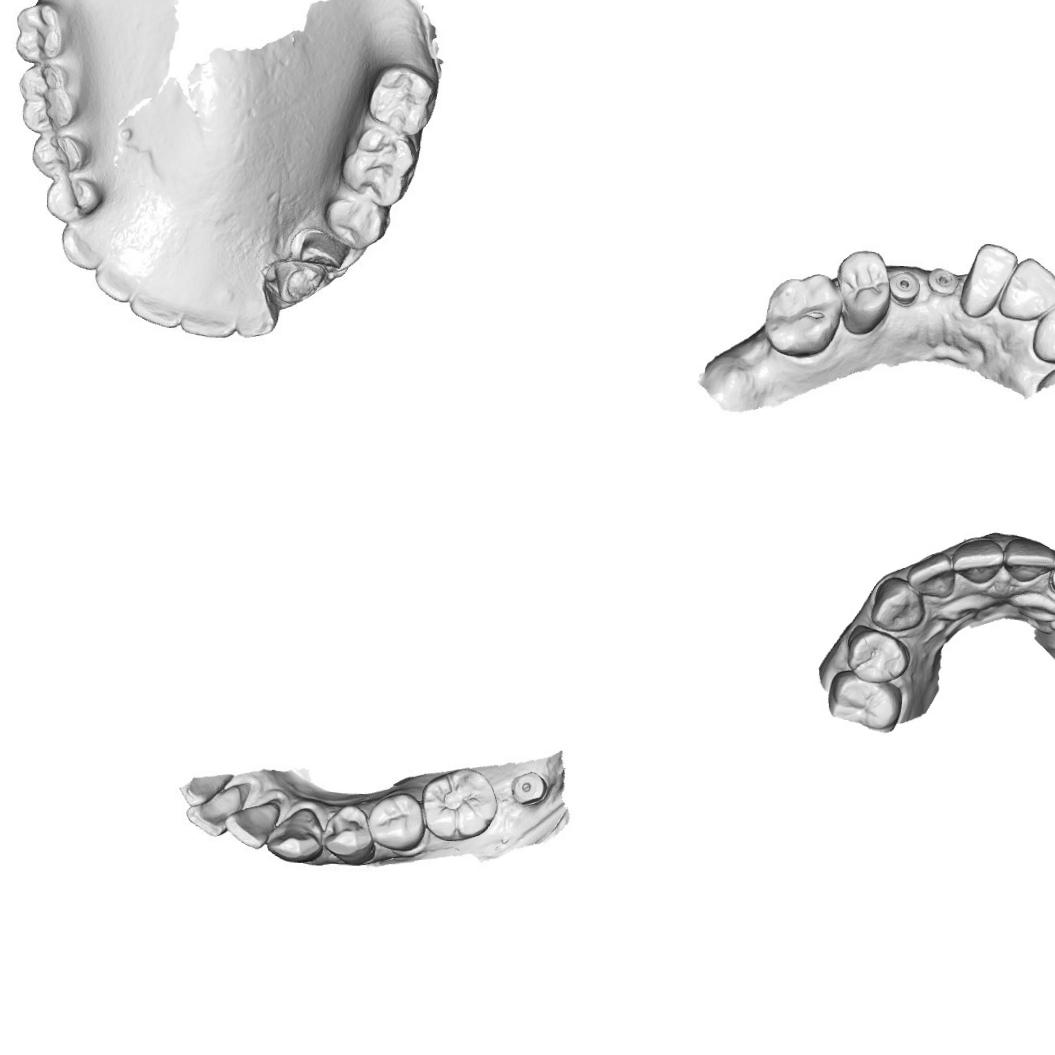canine: (264, 806, 324, 864), (57, 216, 116, 274), (868, 576, 928, 633)
implant: (509, 770, 548, 807), (886, 269, 920, 306)
implant_minus: (925, 266, 963, 302)
incisor: (956, 238, 1019, 320), (184, 782, 242, 838), (1003, 259, 1055, 321), (127, 282, 188, 329), (223, 800, 280, 850), (949, 536, 1006, 586), (177, 296, 238, 341), (904, 548, 956, 599), (1003, 534, 1055, 585), (228, 292, 276, 342), (93, 258, 139, 306), (1034, 299, 1055, 361)
molar: (763, 272, 844, 356), (419, 766, 500, 844), (344, 122, 414, 202), (368, 66, 433, 132), (19, 65, 79, 131), (11, 6, 66, 62)
premolar: (824, 669, 902, 732), (838, 246, 891, 332), (323, 188, 390, 254), (844, 624, 911, 685), (365, 792, 426, 853), (321, 802, 377, 866), (28, 131, 86, 178), (46, 175, 100, 223)
